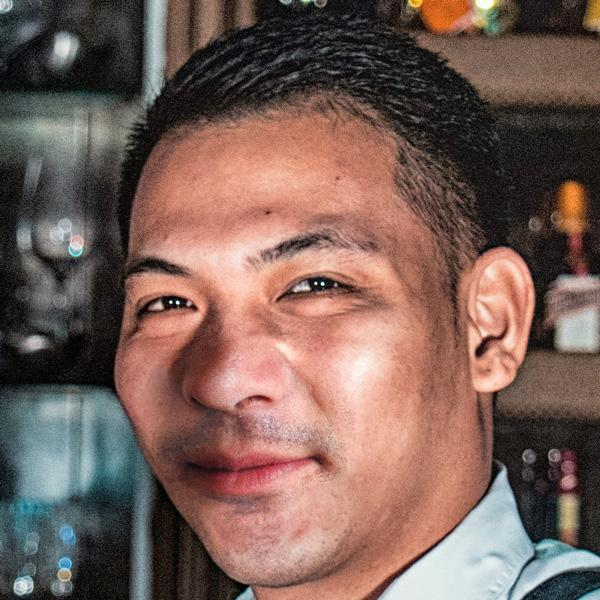Eyes: (265, 257, 371, 318), (125, 276, 204, 334)
